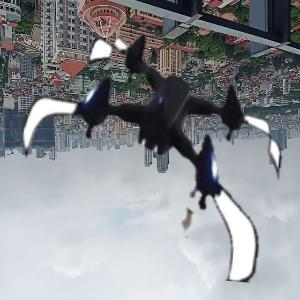drone: (18, 3, 290, 275)
